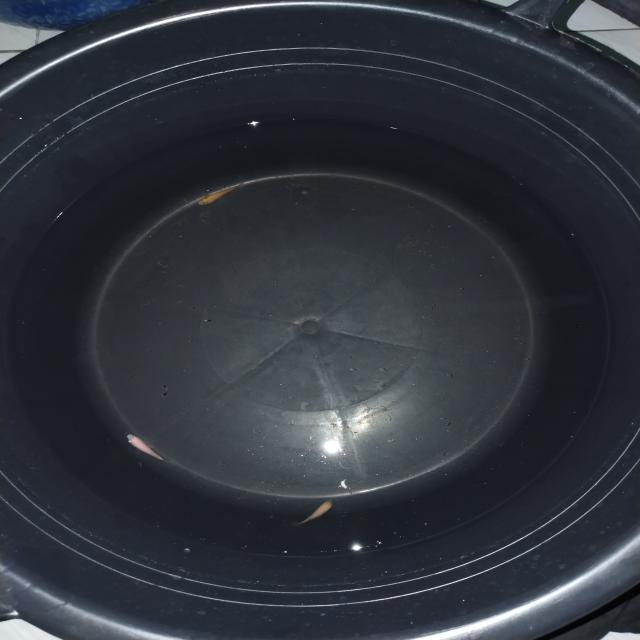nila: (199, 173, 245, 214), (126, 429, 164, 469), (298, 496, 334, 527)
